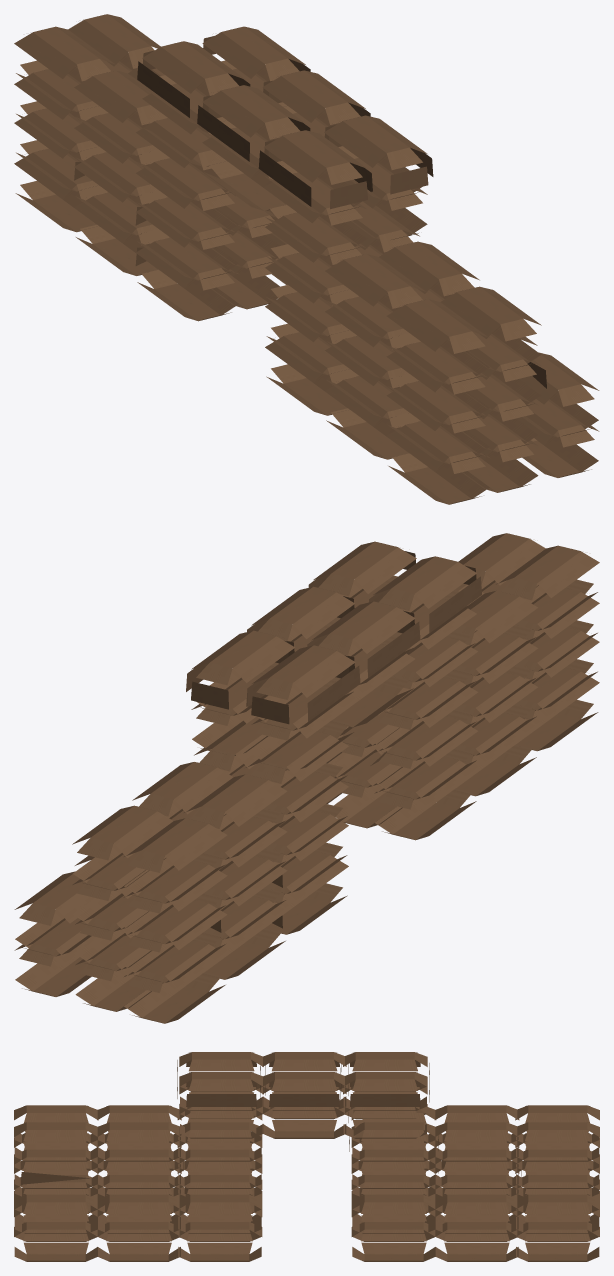
Rendered from bags_line.glb.
3 views of the same model, one above another, from view 1: azimuth 30°, elevation 25°; view 2: azimuth 150°, elevation 25°; view 3: azimuth 270°, elevation 25° (orthographic). The views are drawn at different scales.
Visible parts, largest first — view 1: sand bag 03; view 2: sand bag 03; view 3: sand bag 03.
Boxes of the visible parts, x1,y1,x2,y2 form: sand bag 03: (14,14,599,504); sand bag 03: (14,533,599,1023); sand bag 03: (14,1052,599,1261).
Size of the model in its own units: 1.16 by 1.63 by 5.21.
Materials: 1 (1 with a texture image).
